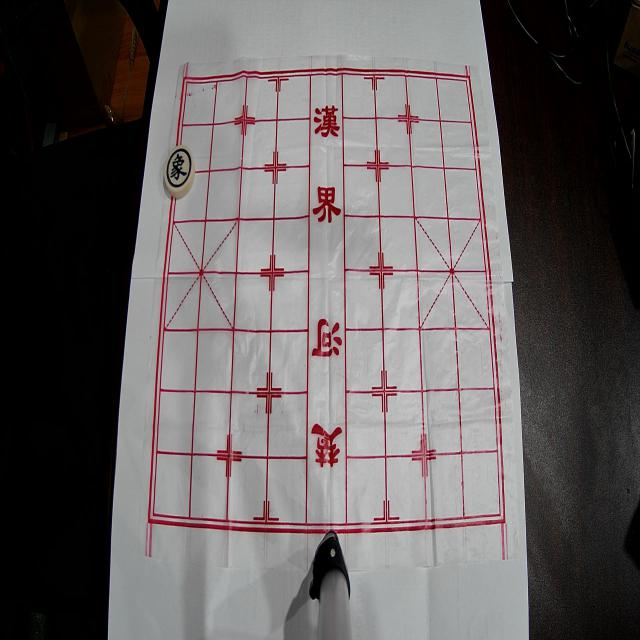black-elephant: (165, 145, 195, 197)
